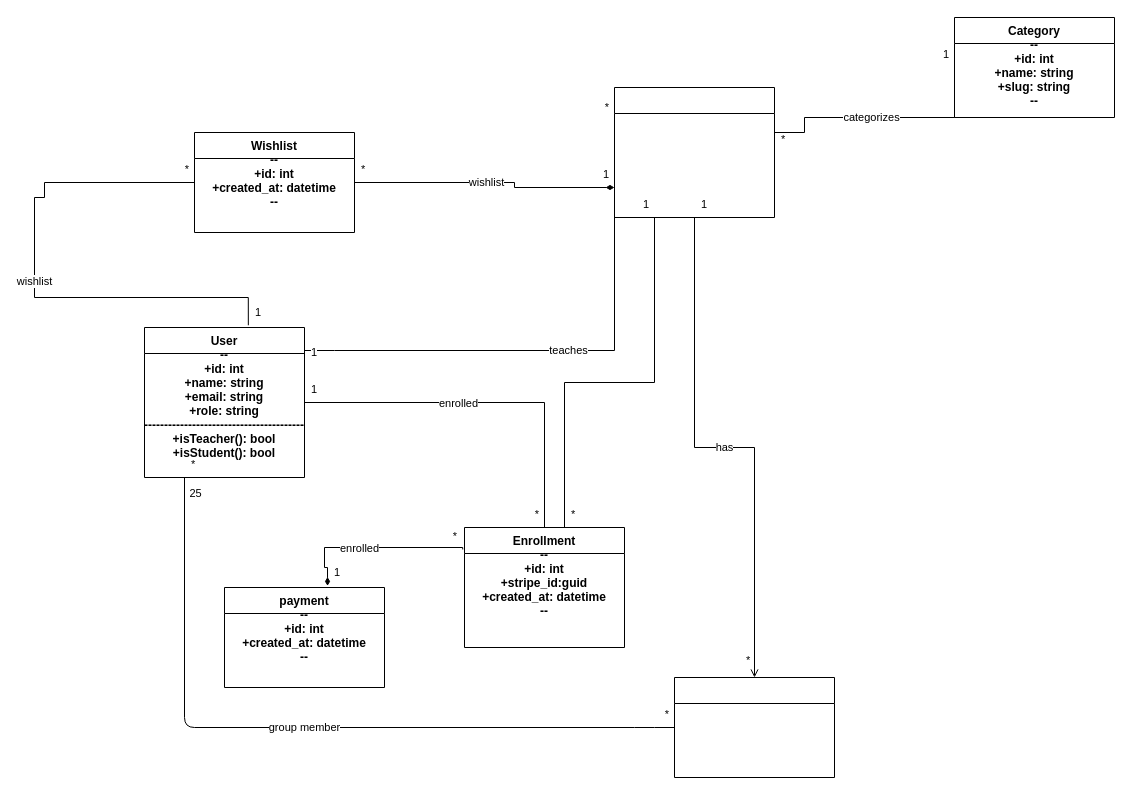
The diagram is 1132 pixels wide and 795 high, and some of its shapes have lost their labels. The shapes that lost their labels are listed below. From the top down, each one's centre as x and y in pixels, then its label:
point 694,152: Course -- +id: int +title: string +price: decimal --
point 754,727: Group -- +id: int +name: string --
